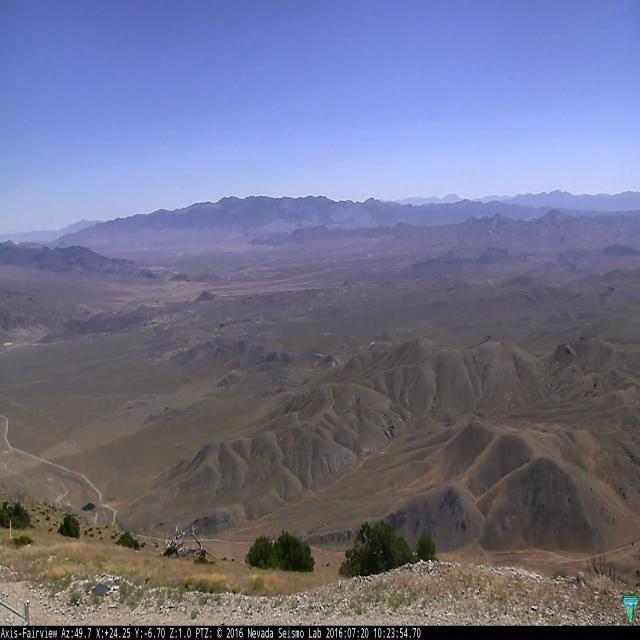smoke: (312, 212, 318, 225)
